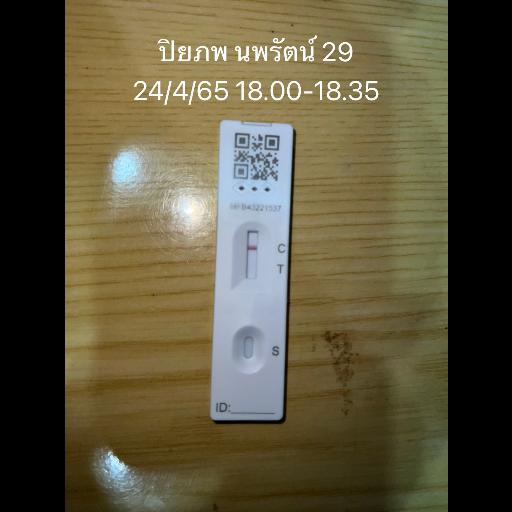Neg: (210, 119, 293, 422)
